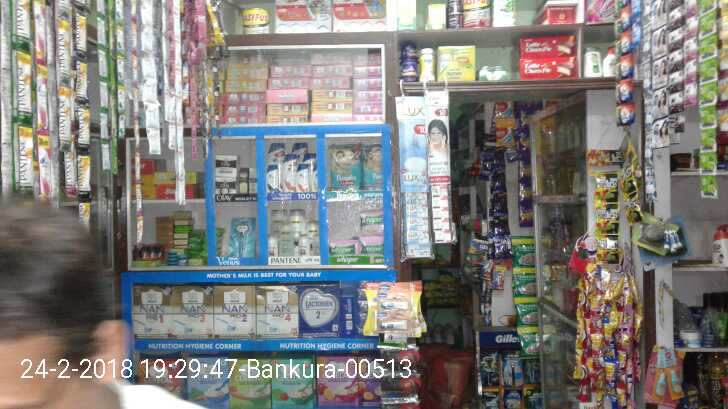gillete: (208, 1, 225, 44), (210, 57, 221, 102)
venus: (227, 215, 255, 258)
